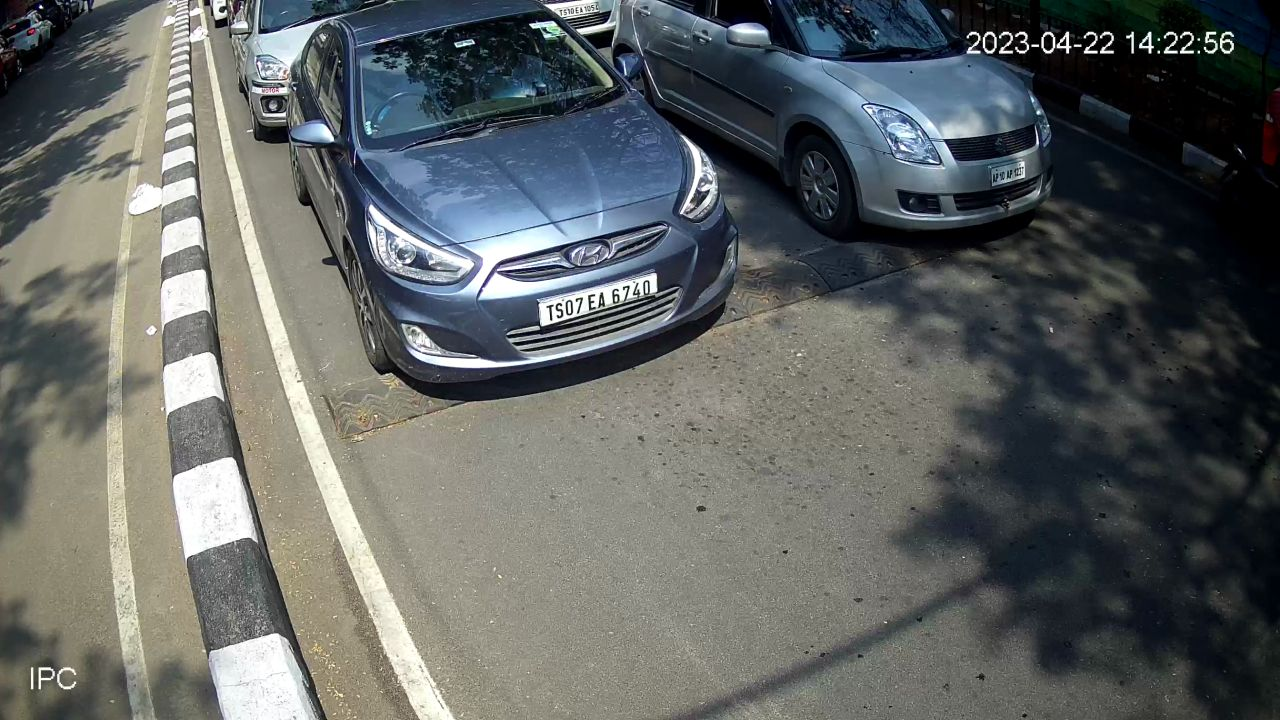license_plate: (535, 267, 663, 335), (984, 158, 1030, 193), (557, 3, 601, 20)
